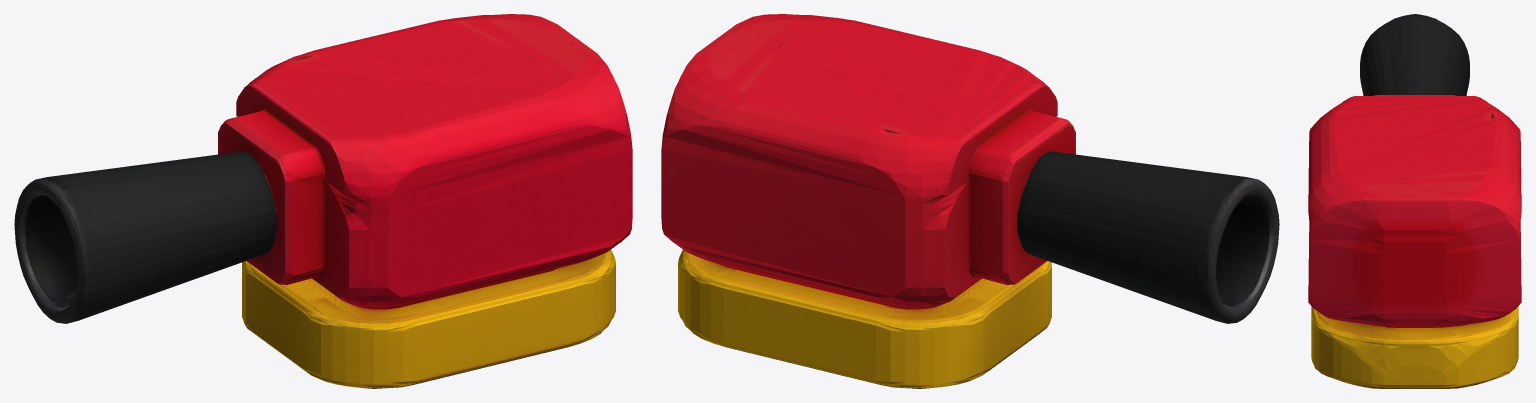
The model's file is Meshy_AI_Chromatic_Nozzle_0708100700_texture.glb.
3 views of the same model, side by side, from view 1: azimuth 30°, elevation 25°; view 2: azimuth 150°, elevation 25°; view 3: azimuth 270°, elevation 25° (orthographic). The views are drawn at different scales.
Bounding box in the file's own units: 1.91 × 0.8258 × 0.8415.
Materials: 1 (1 with a texture image).
